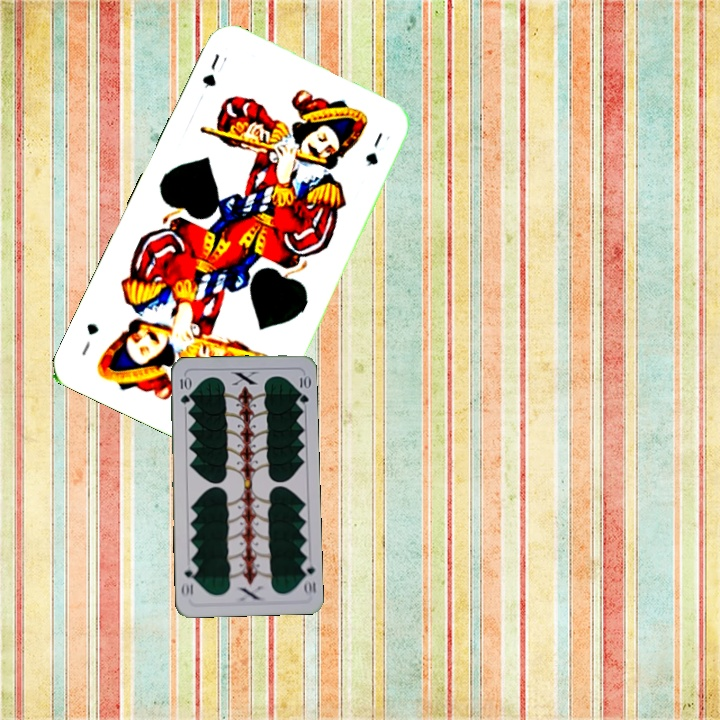G10: (298, 557, 318, 598), (176, 372, 192, 407)
GU: (198, 49, 230, 91)
